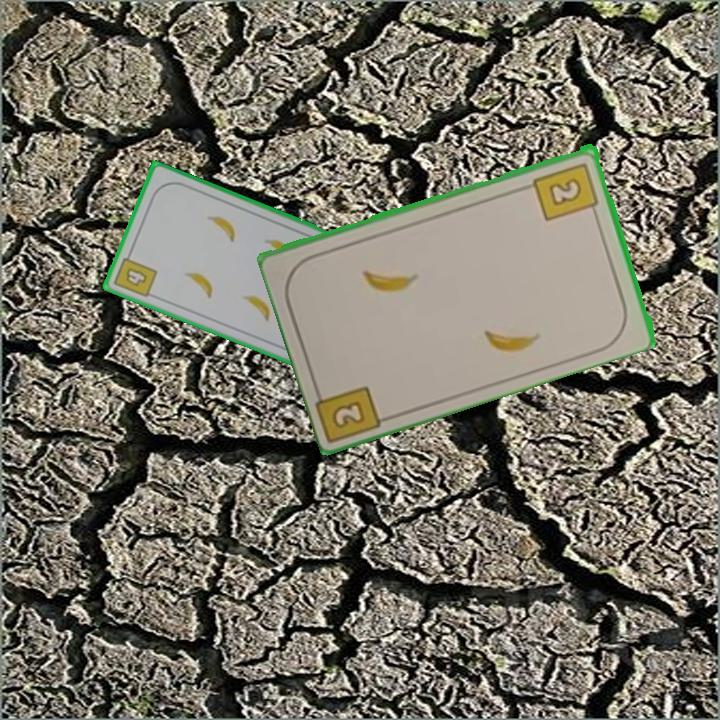2b: (530, 158, 602, 224), (328, 396, 369, 432)
4b: (110, 248, 160, 300)
